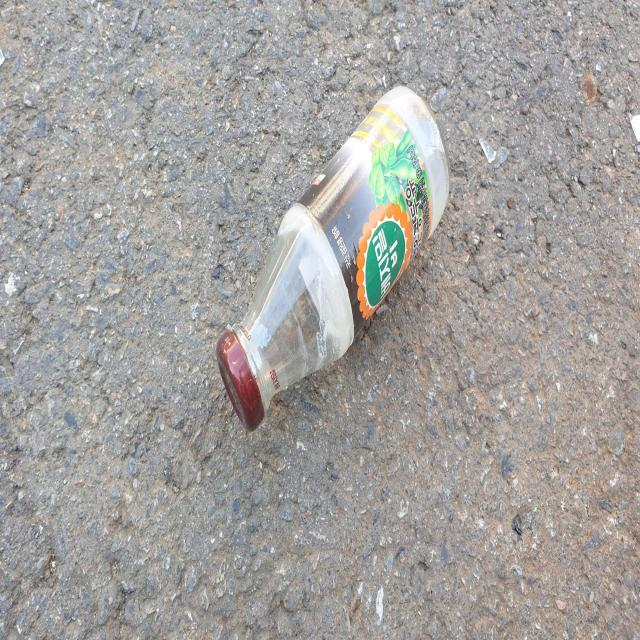glass: (216, 85, 450, 430)
